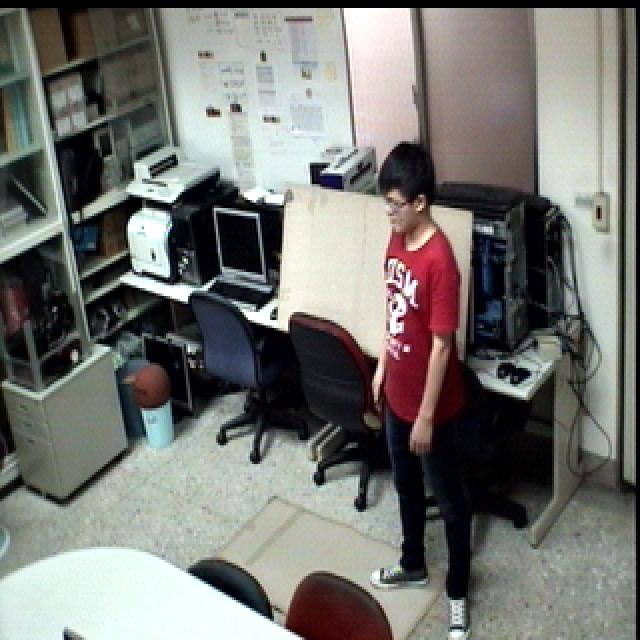stand: (345, 131, 480, 640)
